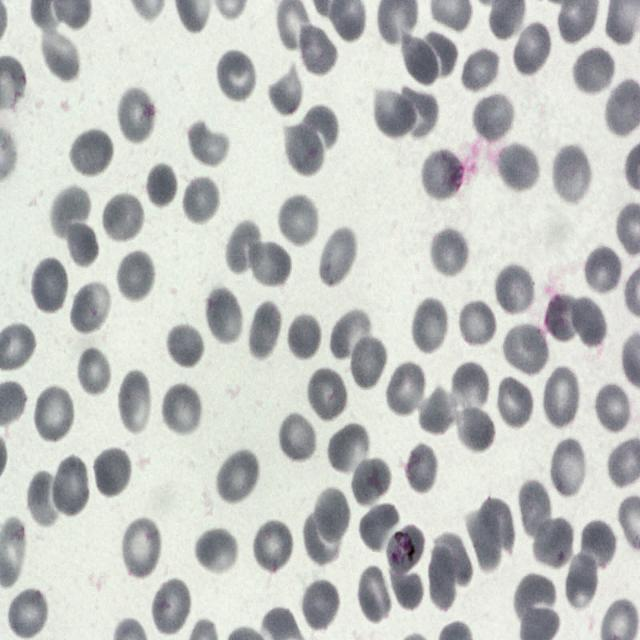red blood cell: (214, 447, 262, 508), (120, 516, 163, 581), (501, 321, 549, 378), (316, 224, 358, 288), (512, 572, 559, 629), (326, 308, 372, 366), (50, 453, 91, 518), (32, 384, 76, 444), (326, 421, 373, 477), (551, 143, 592, 207), (150, 576, 192, 638), (542, 365, 582, 430), (549, 436, 590, 499), (118, 368, 155, 437), (385, 359, 428, 418), (251, 518, 295, 575), (69, 279, 113, 336), (372, 82, 416, 139), (204, 286, 245, 347), (449, 408, 499, 458), (190, 526, 241, 575), (446, 362, 489, 420), (530, 514, 574, 570), (215, 48, 258, 105), (306, 366, 348, 424), (350, 457, 394, 512), (160, 382, 203, 438), (471, 90, 514, 146), (348, 332, 388, 392), (578, 520, 620, 577), (68, 128, 114, 180), (246, 237, 292, 289), (277, 193, 320, 248), (491, 375, 534, 430), (30, 256, 70, 315), (410, 297, 450, 356), (117, 86, 157, 145), (296, 22, 338, 78), (48, 184, 90, 240), (572, 45, 616, 98), (428, 225, 472, 278), (102, 191, 145, 245), (359, 500, 402, 554), (494, 262, 536, 317), (421, 148, 467, 198), (300, 578, 342, 632), (25, 469, 62, 530), (494, 140, 538, 191), (246, 303, 284, 362), (514, 18, 554, 74), (187, 116, 230, 168), (564, 549, 599, 612), (116, 249, 156, 304), (224, 219, 264, 274), (593, 381, 633, 435), (419, 382, 458, 437), (94, 447, 136, 498), (457, 297, 497, 350), (583, 247, 623, 300), (40, 26, 80, 79), (163, 320, 206, 369), (74, 344, 113, 398), (277, 412, 319, 462), (284, 124, 326, 174), (461, 46, 502, 97), (403, 442, 441, 497), (358, 564, 392, 624), (182, 172, 220, 225), (8, 590, 48, 640), (298, 104, 341, 150), (400, 84, 438, 136), (421, 27, 458, 80), (480, 498, 516, 552), (404, 33, 441, 85), (269, 65, 307, 115), (467, 510, 499, 569), (386, 562, 426, 609), (436, 536, 474, 585), (520, 481, 552, 539), (304, 510, 338, 564), (316, 488, 348, 545), (425, 546, 455, 605), (140, 159, 178, 204), (544, 296, 582, 340), (572, 300, 606, 347), (286, 314, 318, 361), (65, 225, 99, 264)
trophozoite: (388, 524, 426, 576)
